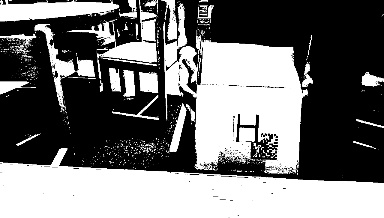H: (232, 110, 261, 141)
